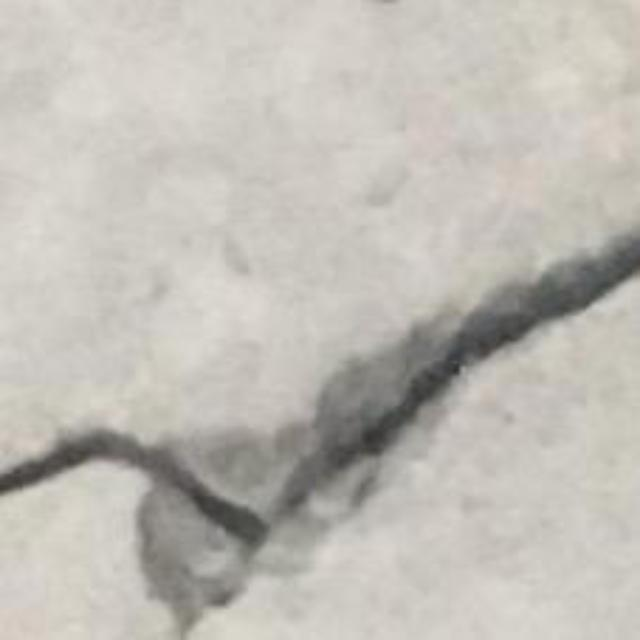crack: (0, 229, 639, 637)
